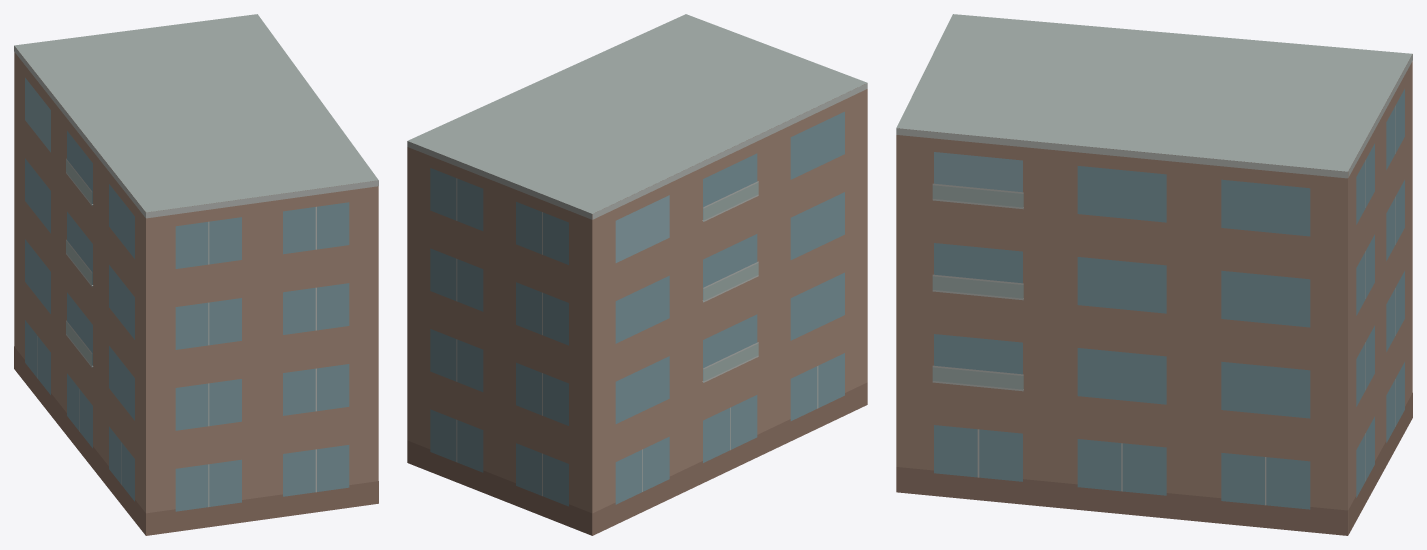
Rendered from survey-upis-32858236.glb.
3 views of the same model, side by side, from view 1: azimuth 30°, elevation 25°; view 2: azimuth 150°, elevation 25°; view 3: azimuth 270°, elevation 25° (orthographic). The views are drawn at different scales.
Parts seen in each view (by area): view 1: survey-upis-32858236.tmp; view 2: survey-upis-32858236.tmp; view 3: survey-upis-32858236.tmp.
Part boxes in pixels (x1,y1,x2,y2): survey-upis-32858236.tmp: (14, 14, 378, 535); survey-upis-32858236.tmp: (407, 14, 867, 535); survey-upis-32858236.tmp: (896, 14, 1412, 535).
Bounding box in the file's own units: 12.27 × 13.2 × 16.98.
